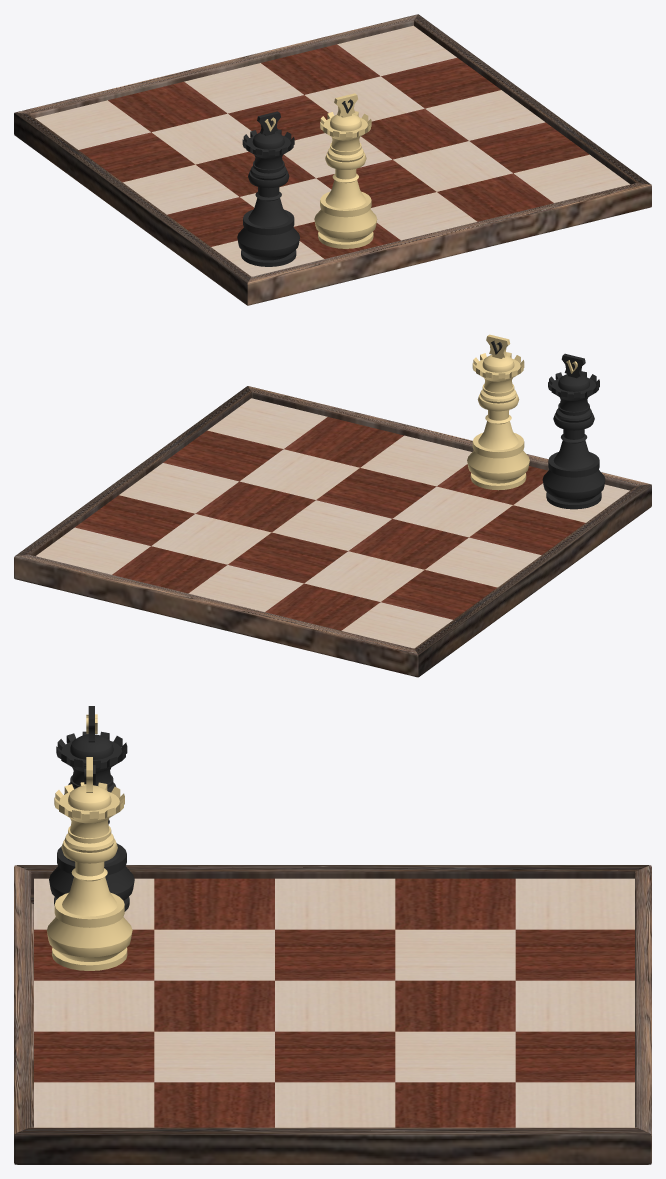
The model's file is AllQueenChessBoard.fbx.
3 views of the same model, one above another, from view 1: azimuth 30°, elevation 25°; view 2: azimuth 150°, elevation 25°; view 3: azimuth 270°, elevation 25° (orthographic). The views are drawn at different scales.
Visible parts, largest first — view 1: ChessBoard.001, Frame.001, QueenBlack, QueenWhite; view 2: ChessBoard.001, Frame.001, QueenWhite, QueenBlack; view 3: ChessBoard.001, Frame.001, QueenWhite, QueenBlack.
Boxes of the visible parts, box(x1,y1,x2,y2) form: ChessBoard.001: box(35, 25, 630, 276); Frame.001: box(14, 14, 651, 305); QueenBlack: box(237, 111, 299, 266); QueenWhite: box(314, 93, 377, 248); ChessBoard.001: box(36, 398, 629, 648); Frame.001: box(14, 386, 651, 677); QueenWhite: box(467, 334, 529, 490); QueenBlack: box(542, 353, 605, 509); ChessBoard.001: box(34, 878, 634, 1127); Frame.001: box(14, 865, 651, 1164); QueenWhite: box(47, 757, 132, 970); QueenBlack: box(49, 706, 134, 911).
Bounding box in the file's own units: 529 × 201 × 529.
